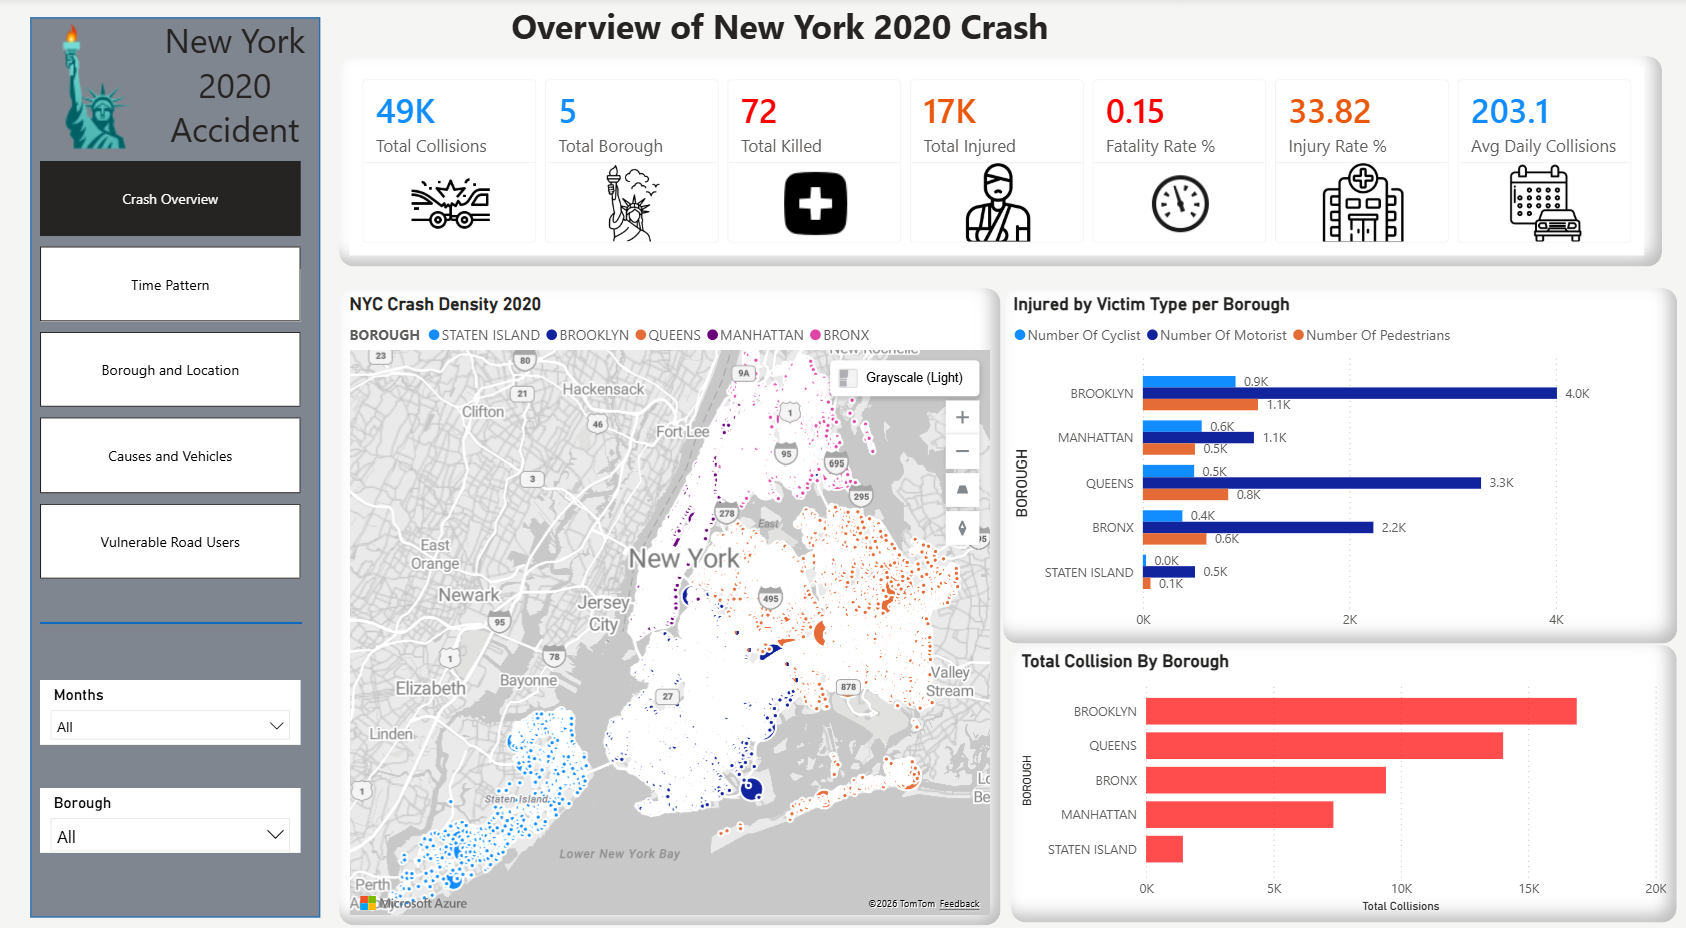

This screenshot's page, from the dashboard's own definition file:
{"tool":"powerbi","page":{"name":"Crash Overview","canvas":[1600,900],"ordinal":0},"visuals":[{"type":"shape","box":[23.7,13.8,286.8,864.3],"z":0},{"type":"cardVisual","fields":{"Data":["NYC Accidents 2020.Total Collisions","Count(NYC Accidents 2020.BOROUGH)","NYC Accidents 2020.Total Killed","NYC Accidents 2020.Total Injured","NYC Accidents 2020.Fatality Rate %","NYC Accidents 2020.Injury Rate %","NYC Accidents 2020.Avg Daily Collisions"]},"box":[322.4,55.4,1255.9,201.7],"z":1000},{"type":"textbox","box":[480.6,0,638.8,55.4],"z":2000},{"type":"clusteredBarChart","title":"Total Collision By Borough","fields":{"Category":["NYC Accidents 2020.BOROUGH"],"Y":["NYC Accidents 2020.Total Collisions"]},"box":[959.2,613.1,632.9,265],"z":3000},{"type":"azureMap","title":"NYC Crash Density 2020","fields":{"Series":["NYC Accidents 2020.BOROUGH"],"Size":["NYC Accidents 2020.Fatality Rate %"],"X":["NYC Accidents 2020.LONGITUDE"],"Y":["NYC Accidents 2020.LATITUDE"]},"box":[322.4,274.9,628.9,605.2],"z":4000},{"type":"slicer","fields":{"Values":["NYC Accidents 2020.BOROUGH"]},"box":[39.6,749.6,247.2,61.3],"z":5000},{"type":"pageNavigator","box":[39.6,156.2,247.2,399.5],"z":6000},{"type":"slicer","fields":{"Values":["NYC Accidents 2020.CRASH DATE - Copy"]},"box":[39.6,646.7,247.2,61.3],"z":7000},{"type":"image","box":[23.7,13.8,144.4,142.4],"z":8000},{"type":"textbox","box":[138.4,13.8,172.1,150.3],"z":9000},{"type":"shape","box":[39.8,555.5,248.3,73.9],"z":10000},{"type":"clusteredBarChart","title":"Injured by Victim Type per Borough","fields":{"Category":["NYC Accidents 2020.BOROUGH"],"Y":["Sum(NYC Accidents 2020.NUMBER OF CYCLIST INJURED)","Sum(NYC Accidents 2020.NUMBER OF MOTORIST INJURED)","Sum(NYC Accidents 2020.NUMBER OF PEDESTRIANS INJURED)"]},"box":[951.3,274.9,640.8,338.2],"z":11000}]}

Visuals, with their boxes in screenshot pixels (x1, y1, x2, y2), scaled from the page's 1600x900 canvas onto the 1686x928 screenshot:
shape: 25:14:327:905
cardVisual - NYC Accidents 2020.Total Collisions x Count(NYC Accidents 2020.BOROUGH): 340:57:1663:265
textbox: 506:0:1180:57
"Total Collision By Borough" clusteredBarChart: 1011:632:1678:905
"NYC Crash Density 2020" azureMap: 340:283:1002:907
slicer - NYC Accidents 2020.BOROUGH: 42:773:302:836
pageNavigator: 42:161:302:573
slicer - NYC Accidents 2020.CRASH DATE - Copy: 42:667:302:730
image: 25:14:177:161
textbox: 146:14:327:169
shape: 42:573:304:649
"Injured by Victim Type per Borough" clusteredBarChart: 1002:283:1678:632
